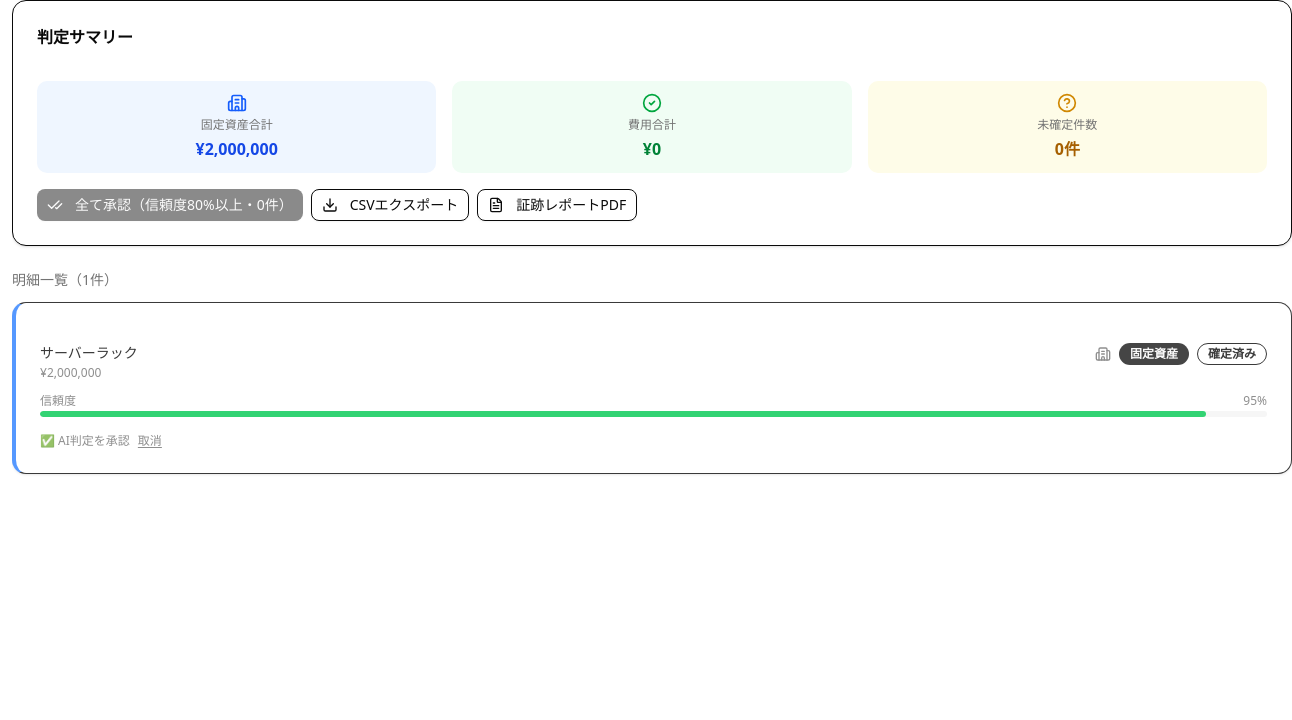
it: PDFReviewSection — PDF report (F-12) › 再試行時に前回エラーがクリアされる
// 1回目クリック → エラー表示
Click the button with test id "btn-pdf-report": (557, 205) top-left (477, 189), bottom-right (637, 221)
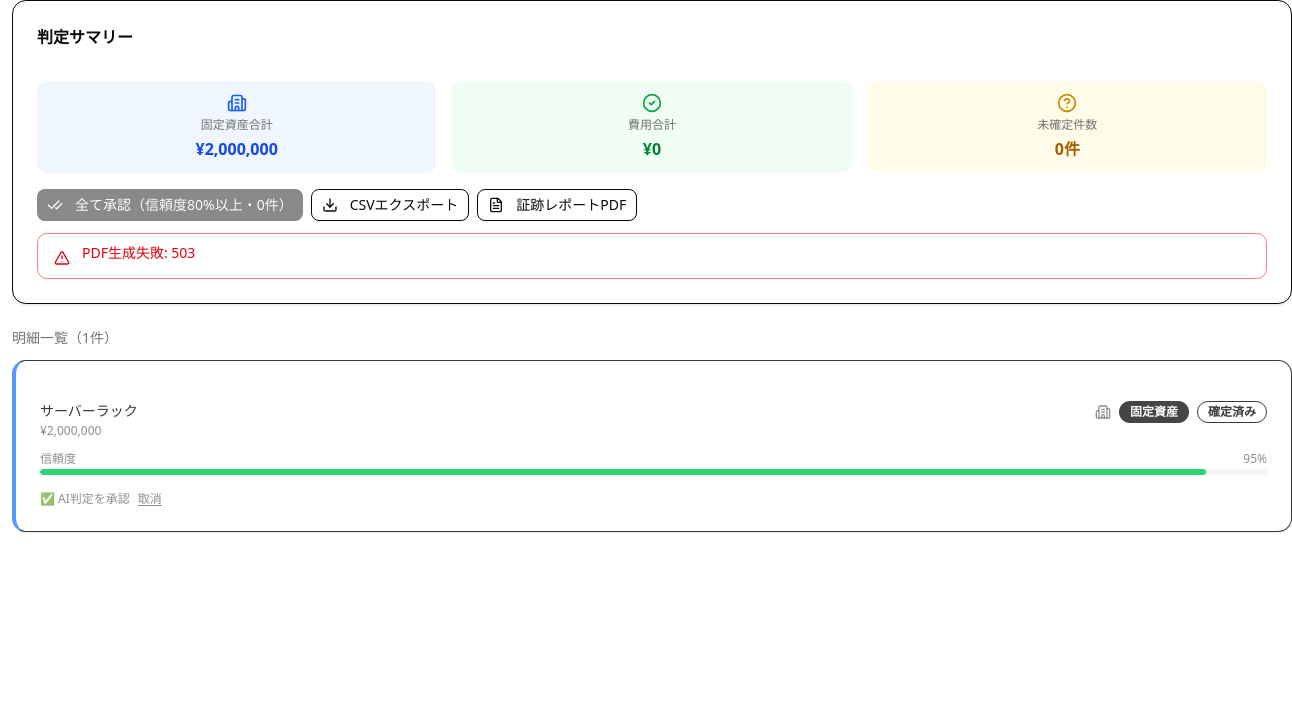
Expected: the message "PDF生成失敗: 503" is shown, top-left (37, 233), bottom-right (1267, 279)
// 2回目クリック → エラー消去
Click the button with test id "btn-pdf-report": (557, 205) top-left (477, 189), bottom-right (637, 221)
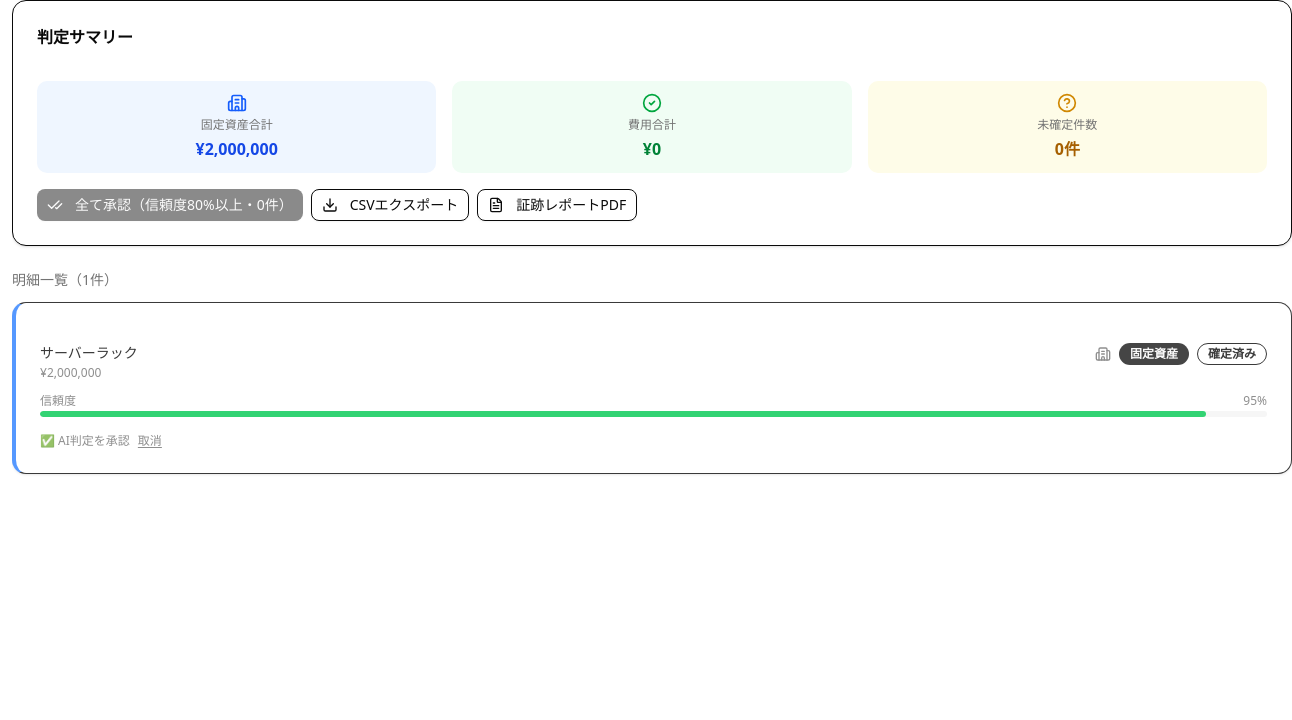
Expected: the message with test id "pdf-error-alert" is gone
